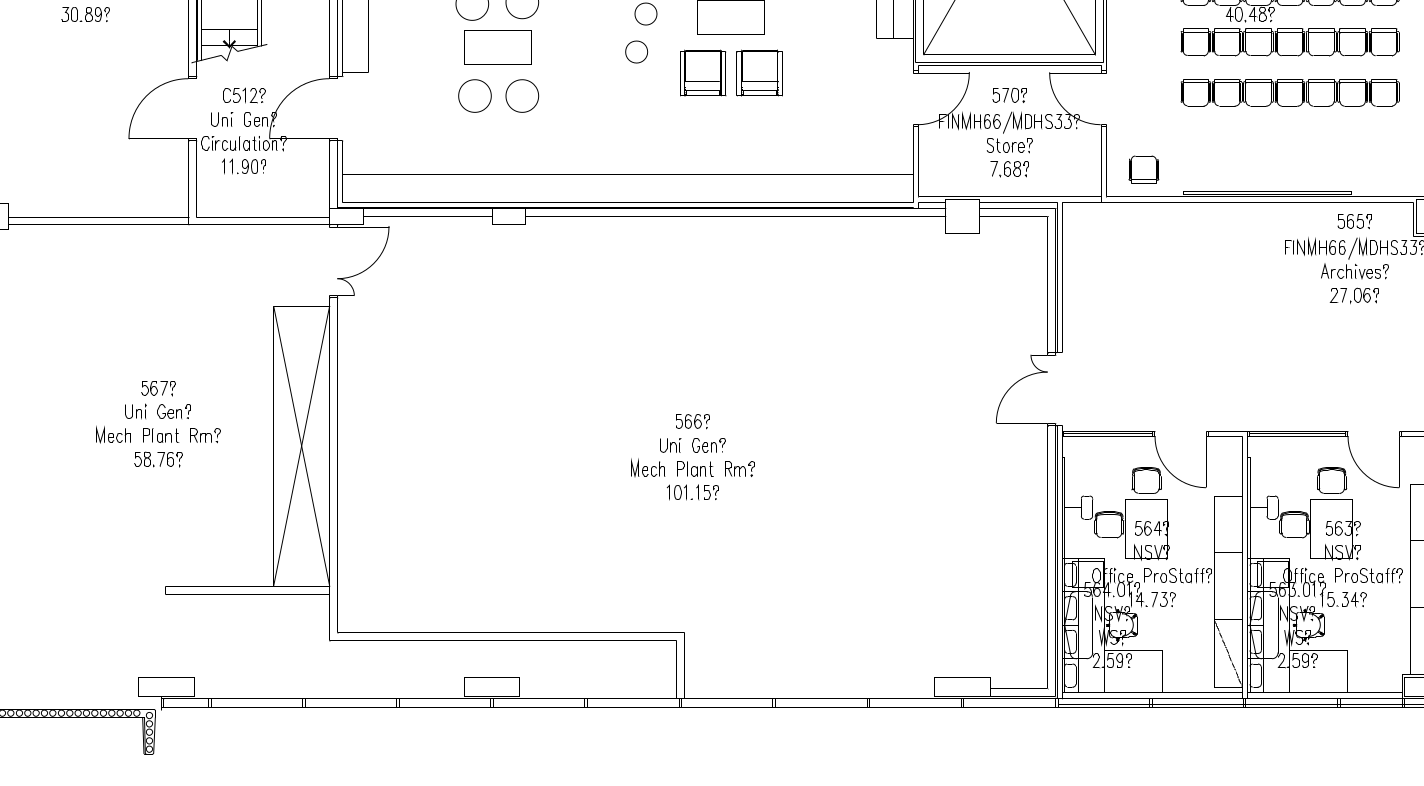door: (910, 67, 978, 137), (1034, 69, 1102, 139), (258, 74, 326, 143), (121, 74, 189, 143), (990, 371, 1060, 432), (1153, 426, 1214, 493), (1344, 429, 1405, 496), (328, 224, 395, 279), (1023, 348, 1056, 373), (325, 278, 358, 303)
